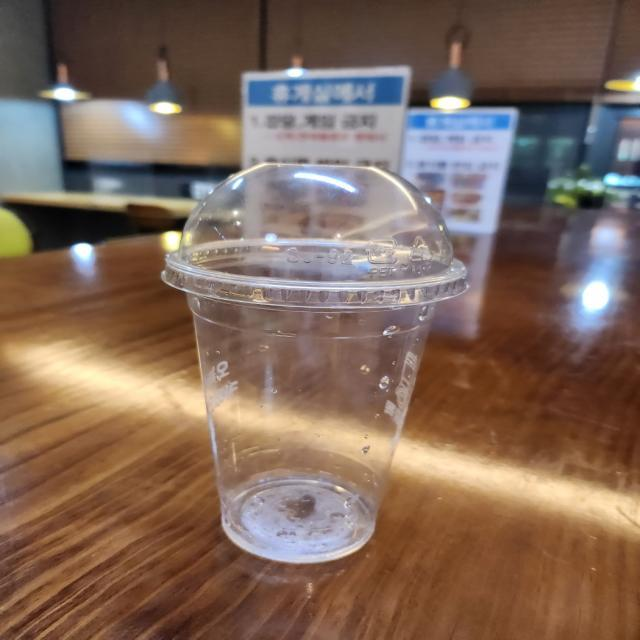plastic_cup_lid: (148, 141, 480, 313)
